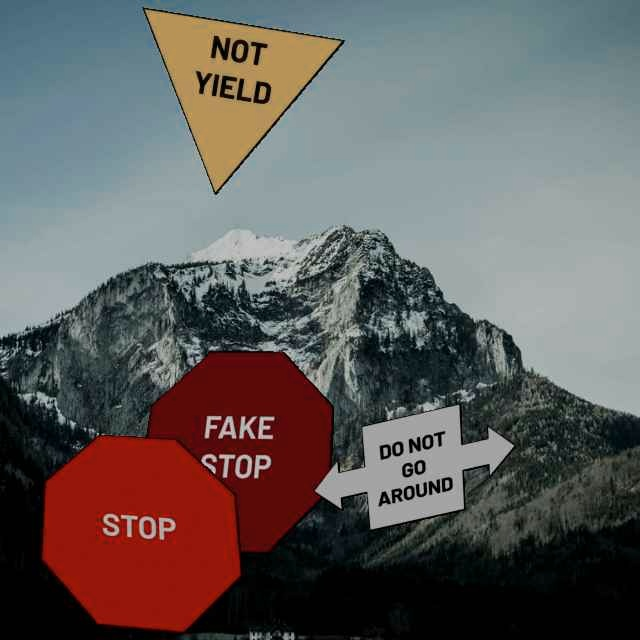DO_NOT_GO_AROUND: (313, 403, 516, 531)
FAKE_STOP: (138, 351, 334, 554)
NOT_YIELD: (142, 7, 345, 195)
STOP: (40, 434, 243, 634)
